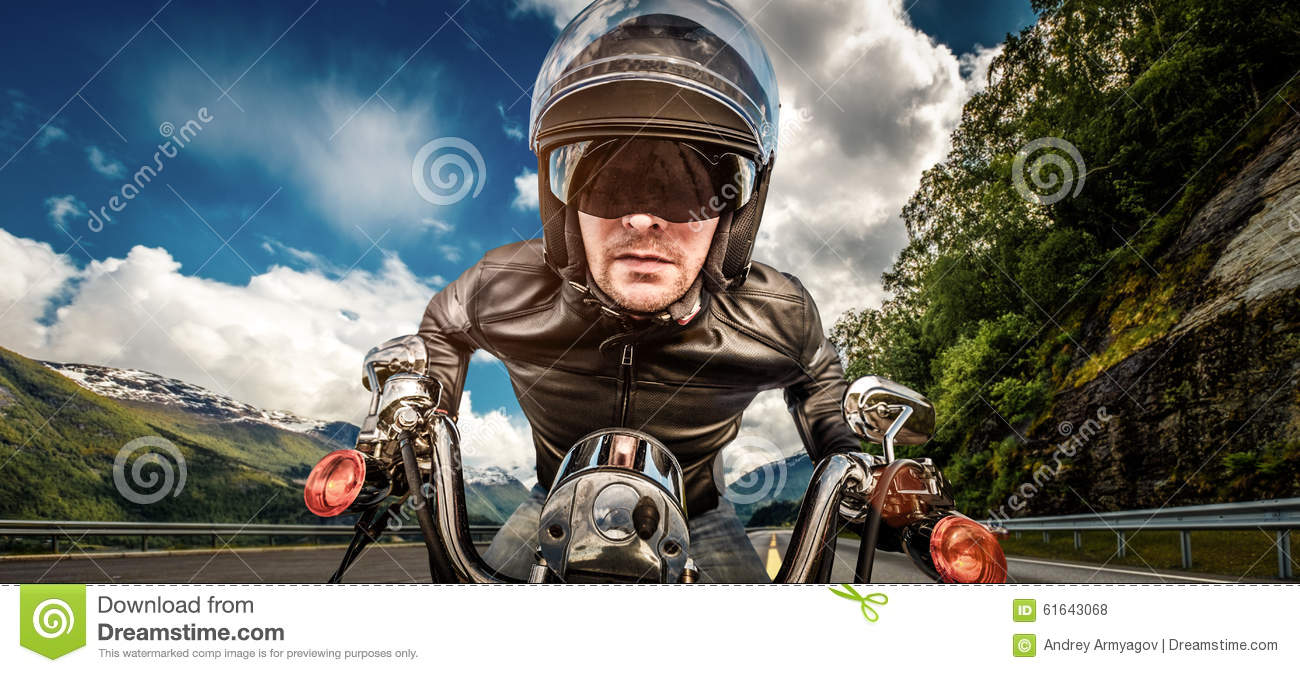helmet: (525, 20, 790, 291)
